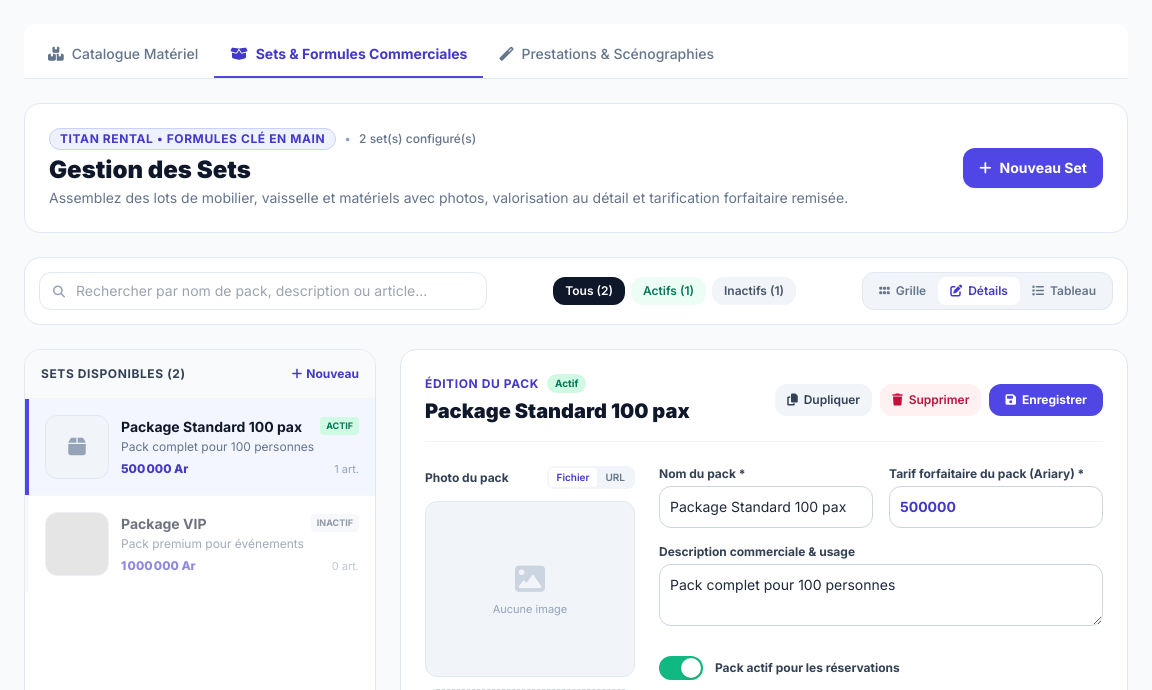
Test: PackageBuilderPage › 2. Le formulaire contient un champ de fichier local pour l'image
Note: Open creation modal
Click the button "Nouveau Set".
click(1033, 168)  # box [963,148,1103,188]
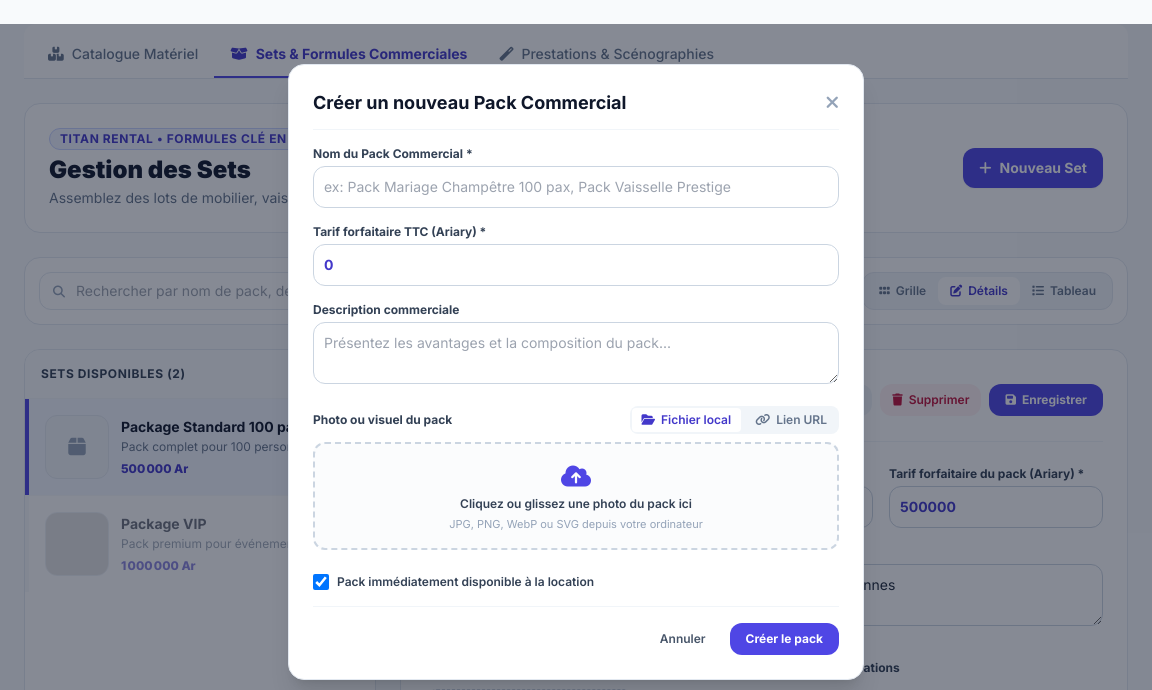
Check: the heading "Créer un nouveau Pack Commercial" is shown, box [313,89,626,117]
Check: the text "Cliquez ou glissez une photo du pack ici" is shown, box [460,496,692,512]
Check: the element named "Sélectionner une photo locale dans la modale" is shown, box [313,442,839,550]
